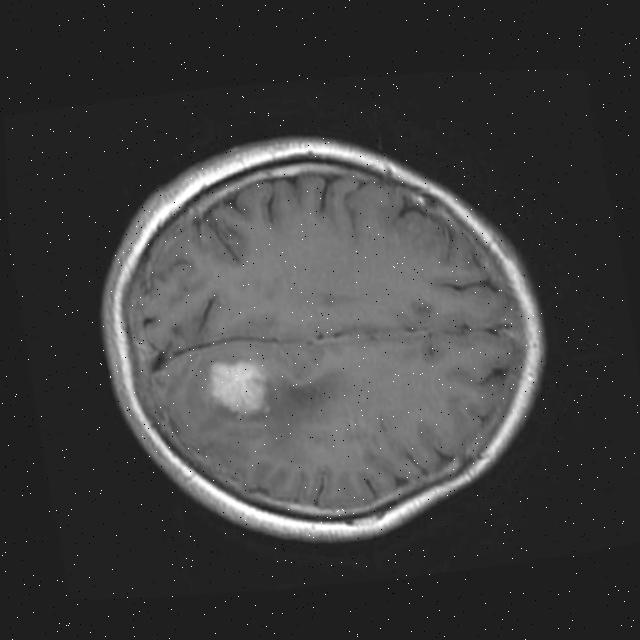Meningioma: (200, 355, 274, 421)
